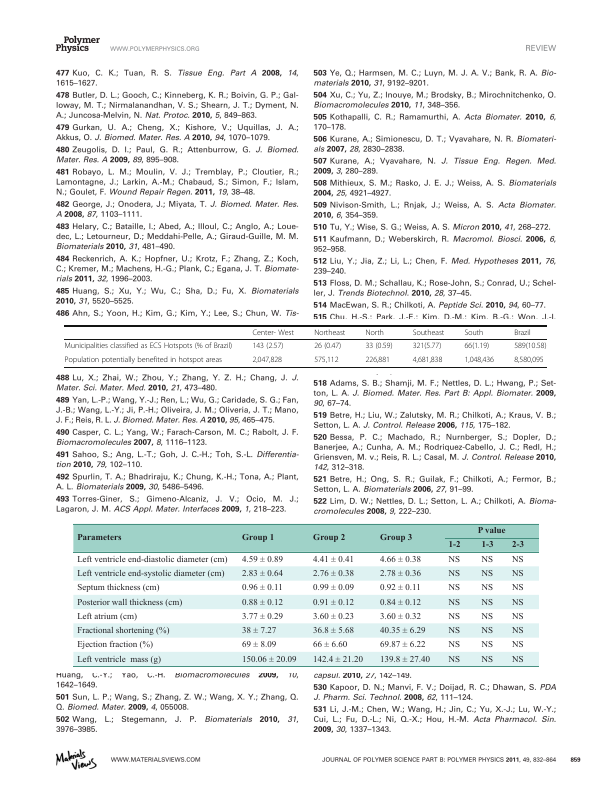borderless: (72, 522, 539, 666), (64, 324, 547, 367)
cell: (64, 341, 233, 351), (64, 355, 223, 365), (75, 555, 228, 565), (75, 569, 225, 579), (75, 598, 183, 608), (75, 626, 170, 636), (75, 583, 160, 594), (75, 655, 161, 665), (75, 640, 153, 651), (75, 612, 137, 622), (241, 655, 297, 665), (379, 640, 426, 651), (312, 655, 363, 665), (379, 655, 430, 665), (379, 626, 426, 636), (241, 583, 283, 594), (312, 583, 354, 594), (379, 583, 421, 594), (76, 534, 122, 544), (241, 555, 283, 565), (312, 555, 354, 565), (379, 555, 421, 565), (241, 569, 283, 579), (312, 569, 354, 579), (379, 569, 421, 579), (241, 598, 283, 608), (312, 598, 354, 608), (379, 598, 421, 608), (241, 612, 283, 622), (312, 612, 354, 622), (379, 612, 421, 622), (312, 626, 354, 636), (241, 640, 277, 651), (312, 640, 348, 651), (251, 328, 295, 337), (241, 626, 277, 636), (378, 534, 413, 544), (241, 534, 275, 544), (312, 534, 346, 544), (513, 341, 547, 351), (251, 341, 284, 351), (251, 355, 283, 365), (463, 355, 495, 365), (513, 355, 545, 365), (412, 355, 443, 365), (476, 527, 506, 537), (412, 341, 442, 351), (313, 328, 346, 337), (412, 328, 445, 337), (313, 341, 342, 351), (364, 341, 393, 351), (463, 341, 490, 351), (364, 355, 391, 365), (313, 355, 339, 365), (364, 328, 385, 337), (463, 328, 484, 337), (513, 328, 532, 337), (447, 583, 461, 594), (480, 583, 494, 594), (447, 640, 461, 651), (480, 640, 494, 651), (511, 583, 524, 594), (511, 640, 524, 651), (447, 541, 461, 551), (480, 541, 494, 551), (510, 541, 524, 551), (447, 555, 461, 565), (480, 555, 494, 565), (447, 569, 461, 579), (480, 569, 494, 579), (447, 598, 461, 608), (480, 598, 494, 608), (447, 612, 461, 622), (480, 612, 494, 622), (447, 626, 461, 636), (480, 626, 494, 636), (447, 655, 461, 665), (480, 655, 494, 665), (511, 555, 524, 565), (511, 569, 524, 579), (511, 598, 524, 608), (511, 612, 524, 622), (511, 626, 524, 636), (511, 655, 524, 665)
